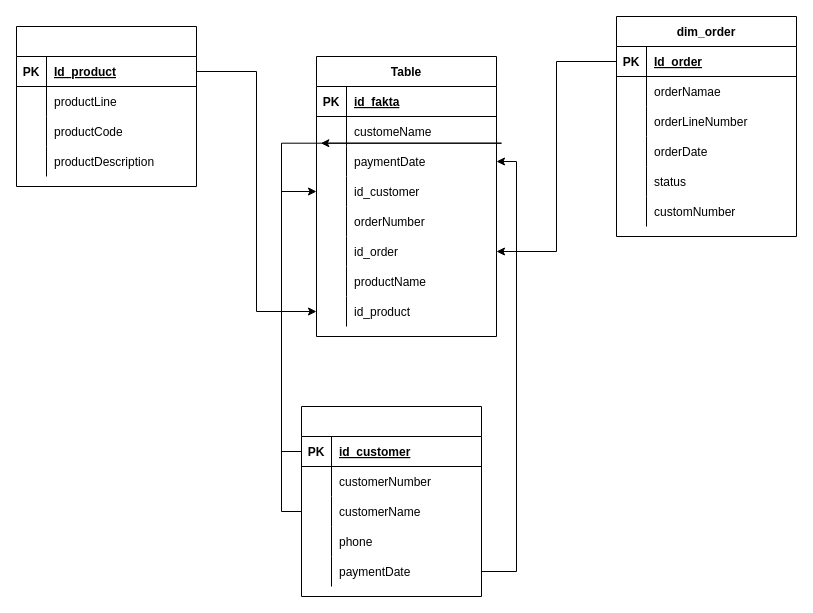
The diagram is 813 pixels wide and 613 high, and some of its shapes have lost their labels. The shapes that lost their labels are listed below. From the top down, each one's box as (x1, y1, x2, y2) in pixels, then its label:
(16, 26, 196, 186): dim_product
(300, 406, 482, 596): dim_customer
